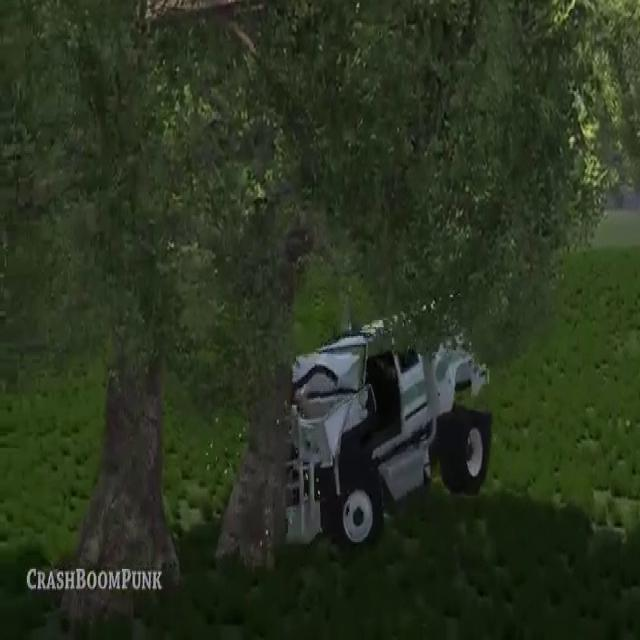severe: (265, 255, 506, 557)
